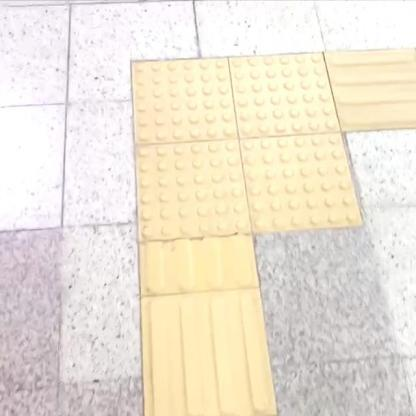podotacti: (101, 17, 377, 292), (136, 242, 280, 416)
